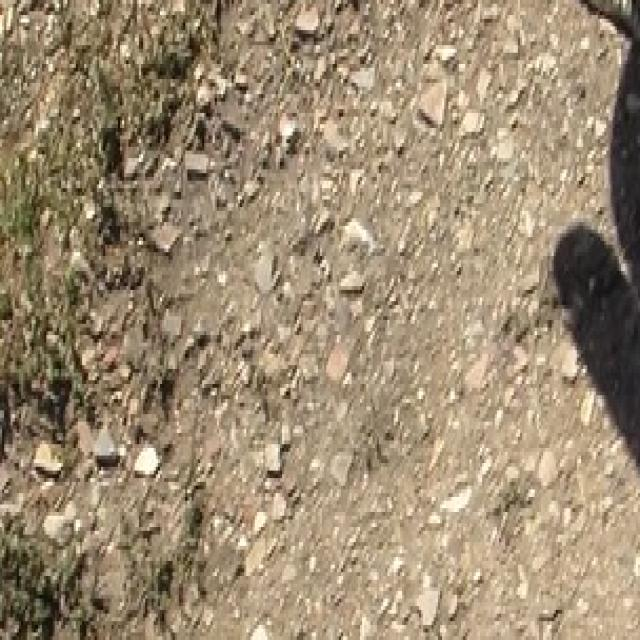Snake: (388, 0, 640, 339)
